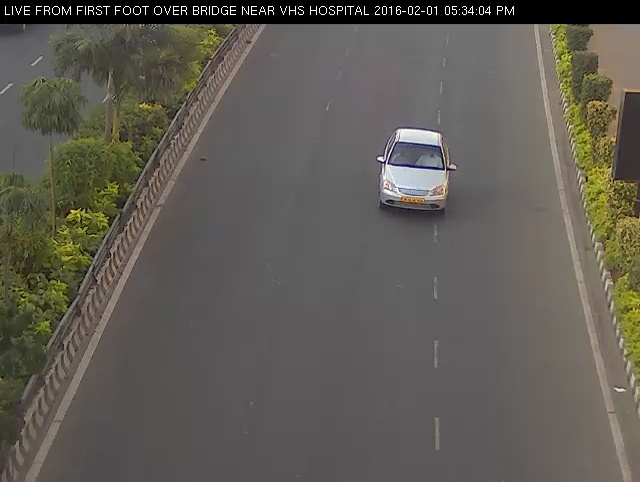Car: (364, 121, 470, 224)
